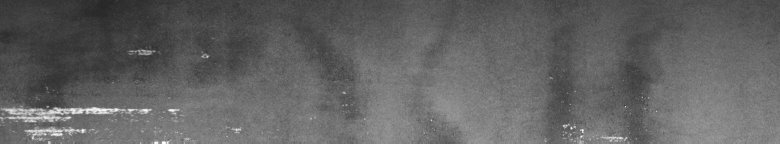kb: (4, 44, 241, 136)
